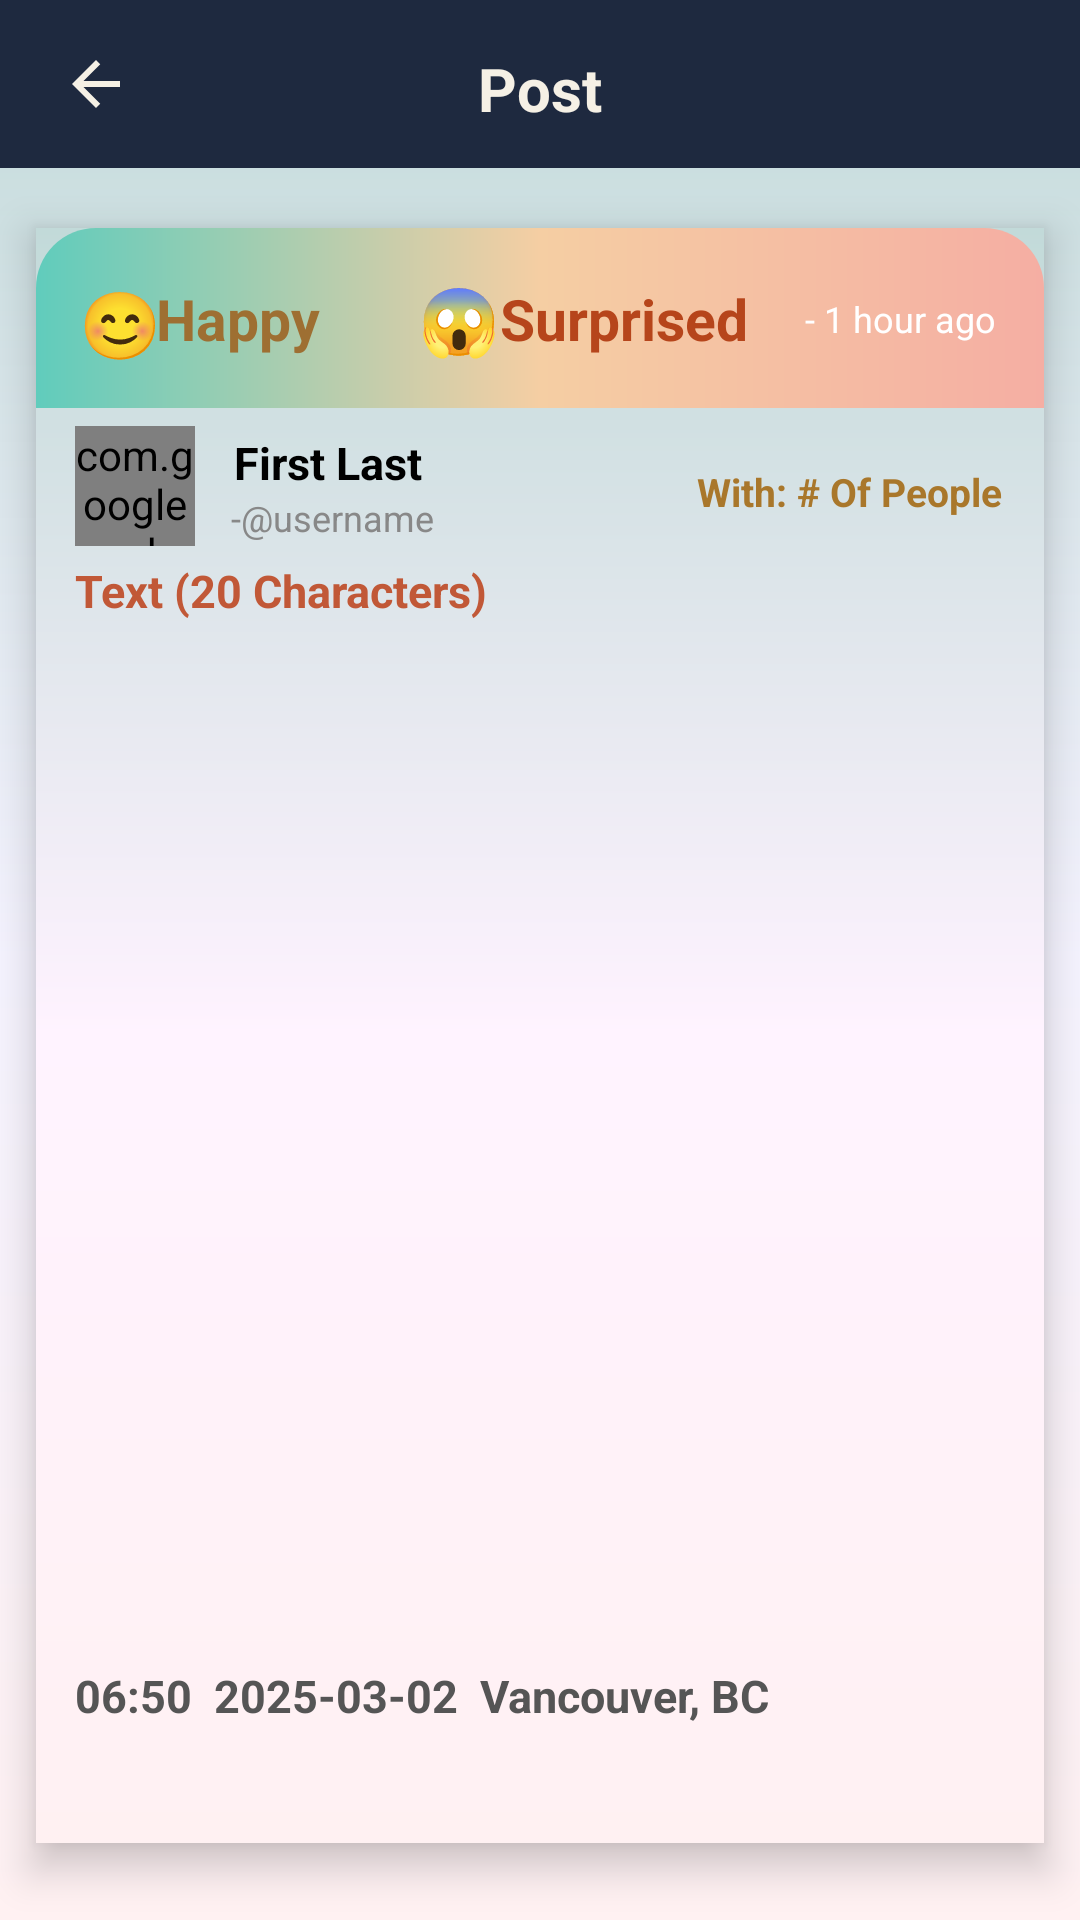

Locate icon controls on the screen. Image size 1080w x 1920h, boxes as (x1, y1, x2, y2).
arrow back: (72, 60, 120, 108)
